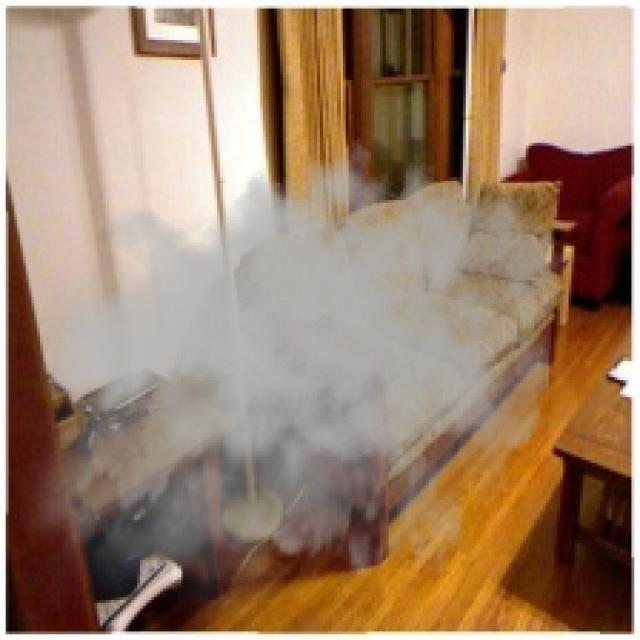smoke: (6, 123, 563, 637)
